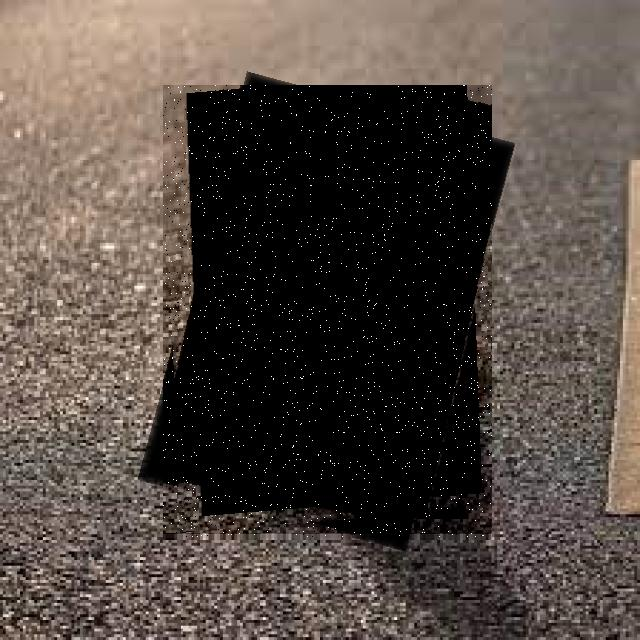Traffic-cone: (163, 85, 492, 538)
